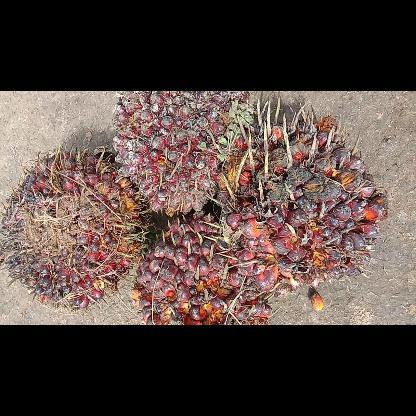Kurang masak: (0, 144, 154, 310), (109, 91, 267, 217)
TBS masak: (212, 97, 388, 293), (131, 208, 282, 324)
